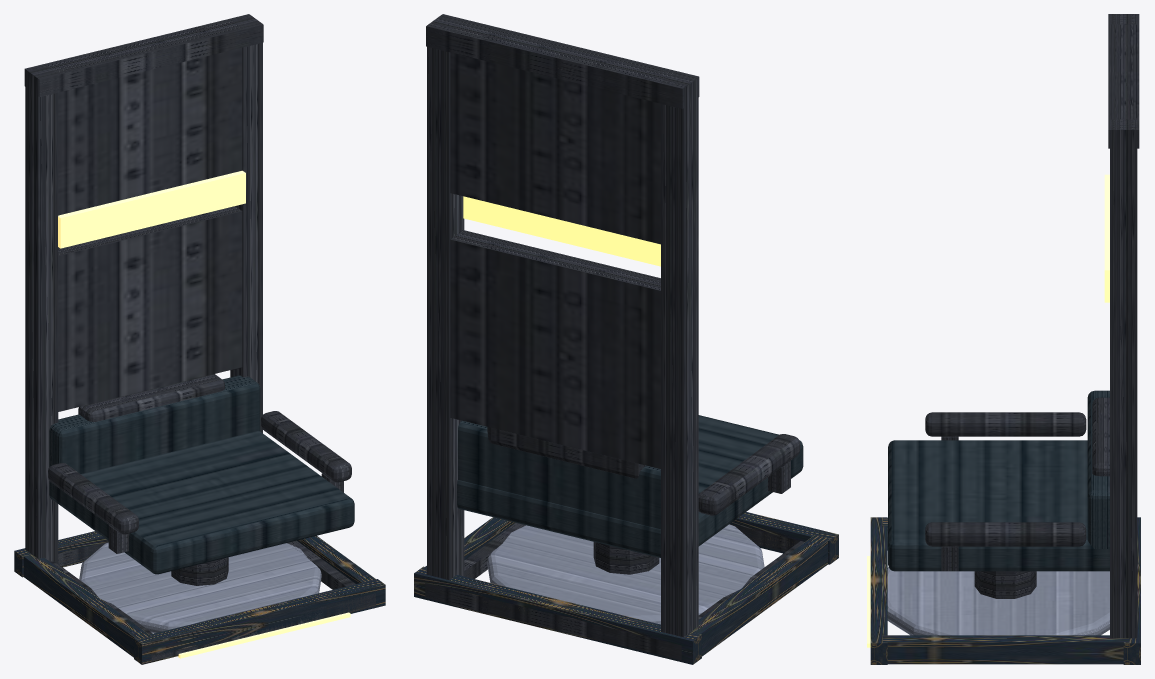
File: bridge_chair.glb
3 renders of one model, left to right at view 1: azimuth 30°, elevation 25°; view 2: azimuth 150°, elevation 25°; view 3: azimuth 270°, elevation 25°, orthographic. The views are drawn at different scales.
Parts seen in each view (by area): view 1: sight_shell, seat, base, back, shelltoe0, sightglow, shelltoes0, head, arm0, arm2, shellrim0, shelltoes2 (+4 smaller); view 2: sight_shell, base, seat, back, shelltoe2, shelltoes0, sightglow, shellrim2, arm0, head, shelltoe0, post (+3 smaller); view 3: seat, sight_shell, base, shelltoes2, arm0, arm2, shelltoe0, back, post, head, shelltoe2, sightglow (+1 smaller).
Boxes of the visible parts, x1,y1,x2,y2 form: sight_shell: (24,14,263,563); seat: (49,431,354,574); base: (79,542,321,633); back: (49,375,260,491); shelltoe0: (134,579,385,664); sightglow: (58,170,245,248); shelltoes0: (23,554,151,657); head: (78,374,224,421); arm0: (48,463,138,534); arm2: (261,411,351,482); shellrim0: (151,593,375,660); shelltoes2: (297,535,375,583); sight_shell: (426,14,699,637); base: (487,524,764,624); seat: (457,415,803,557); back: (458,420,660,529); shelltoe2: (414,566,701,664); shelltoes0: (688,535,830,656); sightglow: (463,196,660,266); shellrim2: (425,583,681,660); arm0: (698,434,800,515); head: (487,427,645,478); shelltoe0: (730,512,838,564); post: (593,542,659,574); seat: (888,440,1109,571); sight_shell: (1108,14,1139,638); base: (887,567,1109,635); shelltoes2: (882,635,1128,664); arm0: (925,412,1086,436); arm2: (925,522,1086,546); shelltoe0: (870,517,887,664); back: (1087,390,1109,558); post: (974,571,1036,598); head: (1092,397,1109,476); shelltoe2: (1123,517,1140,664); sightglow: (1104,174,1109,302).
Bounding box in the file's own units: 0.866 × 1.71 × 0.796.
Materials: 7 (5 with a texture image).
